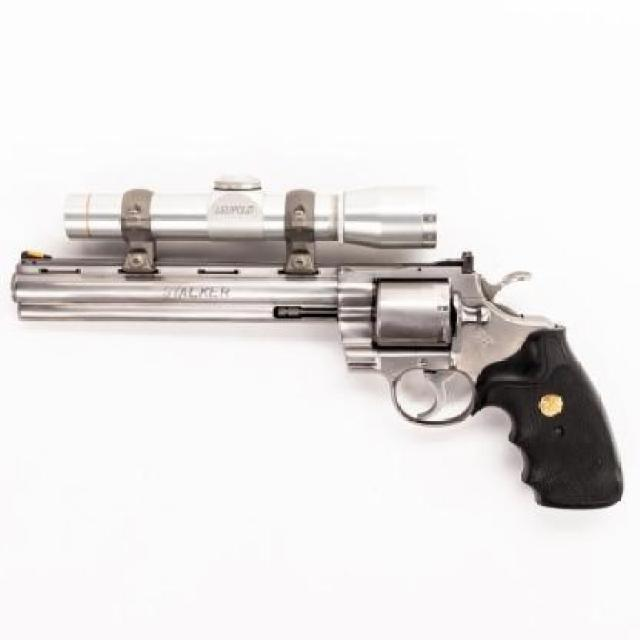gun: (9, 168, 626, 512)
